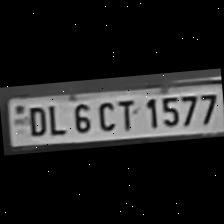1: (138, 96, 158, 130)
5: (156, 92, 182, 128)
6: (66, 100, 94, 134)
7: (194, 90, 218, 126), (178, 92, 198, 126)
C: (91, 97, 117, 132)
D: (22, 103, 46, 137)
L: (43, 100, 66, 136)
T: (113, 96, 139, 132)
